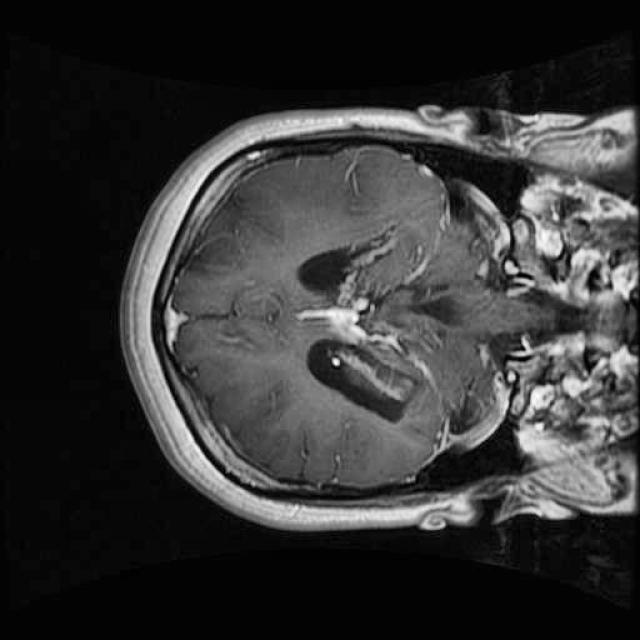Tumor: (326, 229, 436, 409)
